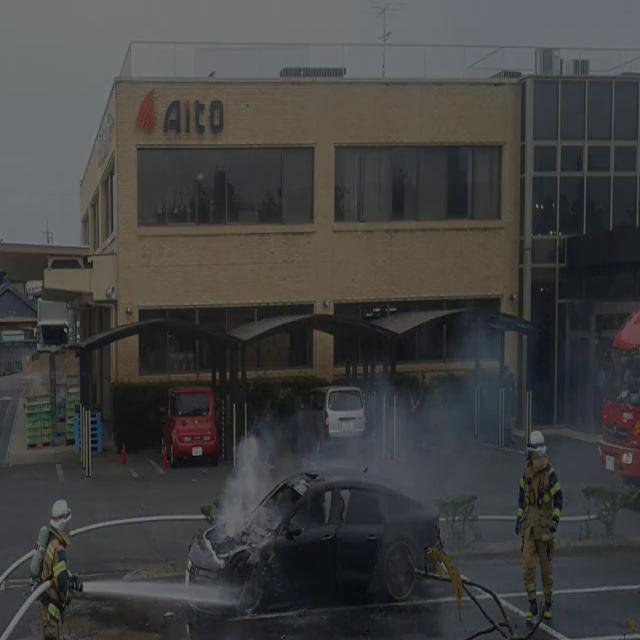Smoke: (216, 330, 509, 553)
